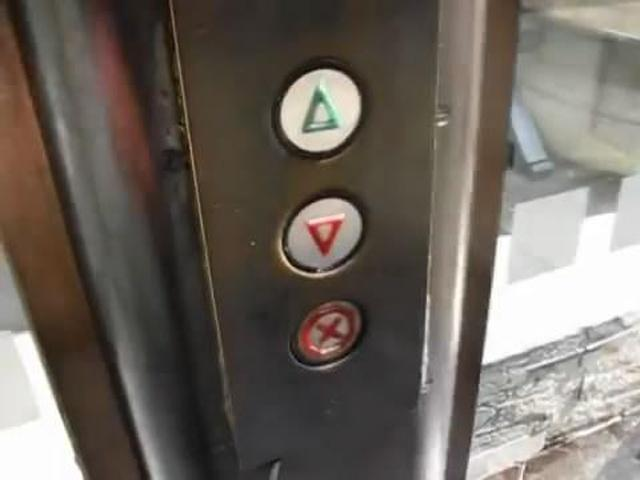down: (276, 187, 371, 278)
stop: (288, 298, 367, 369)
up: (270, 54, 367, 159)
